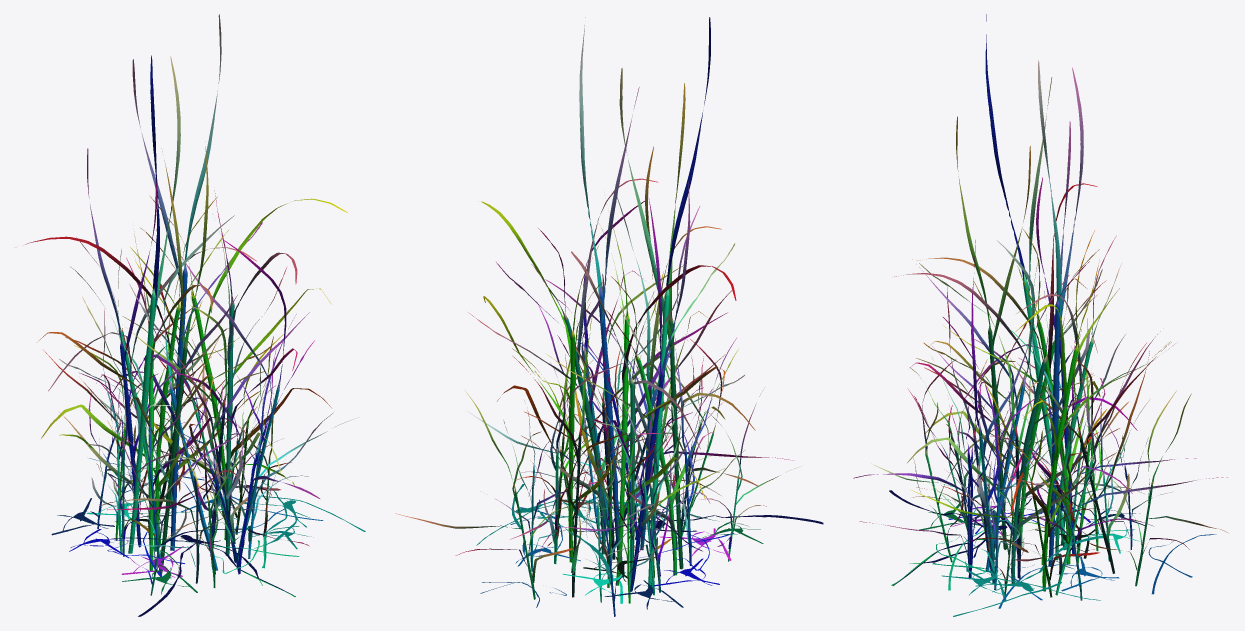
Rendered from Kikuyu_Grass_wiljearqx_Raw_wiljearqx_VarA_LOD0.fbx.
The picture shows the model from 3 angles, left to right: view 1: azimuth 30°, elevation 25°; view 2: azimuth 150°, elevation 25°; view 3: azimuth 270°, elevation 25°; orthographic projection. The views are drawn at different scales.
Visible parts, largest first — view 1: _pyvy_VarA_High; view 2: _pyvy_VarA_High; view 3: _pyvy_VarA_High.
Part boxes in pixels (left/top/right/bottom): _pyvy_VarA_High: left=25, top=14, right=365, bottom=616; _pyvy_VarA_High: left=395, top=17, right=823, bottom=616; _pyvy_VarA_High: left=853, top=14, right=1227, bottom=616.
Size of the model in its own units: 32.16 by 53.73 by 34.95.
